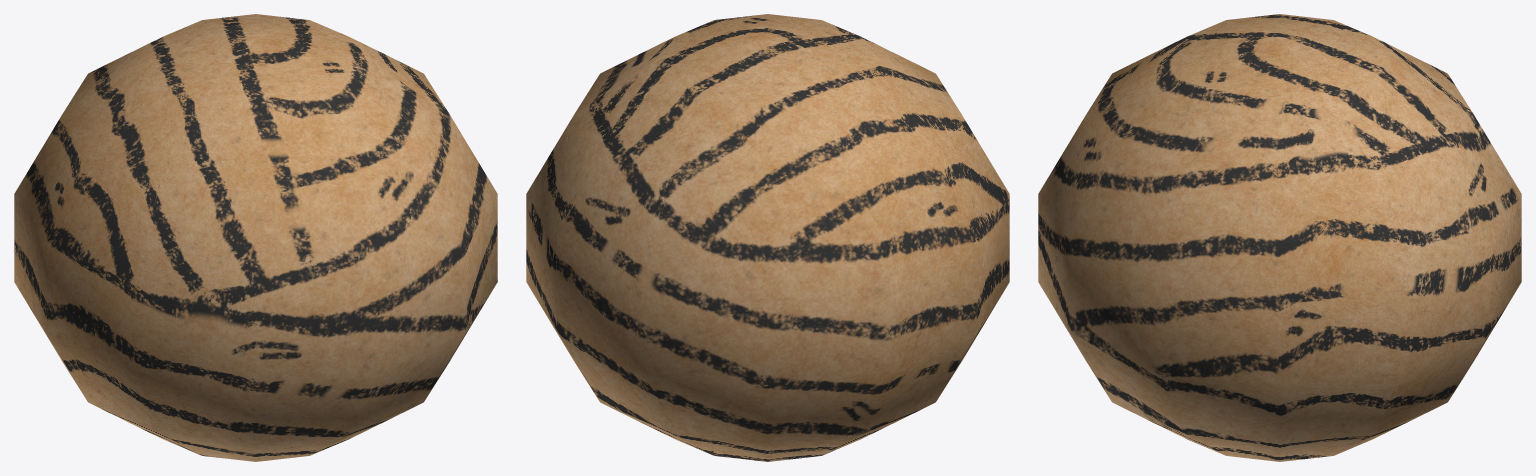
Rendered from Yarn.fbx.
3 views of the same model, side by side, from view 1: azimuth 30°, elevation 25°; view 2: azimuth 150°, elevation 25°; view 3: azimuth 270°, elevation 25° (orthographic).
Visible parts, largest first — view 1: Yarn; view 2: Yarn; view 3: Yarn.
Part boxes in pixels (x1,y1,x2,y2): Yarn: (14,14,497,461); Yarn: (526,14,1009,461); Yarn: (1038,14,1521,461).
Bounding box in the file's own units: 37.08 × 33.55 × 37.08.
1 material, 1 textured.
